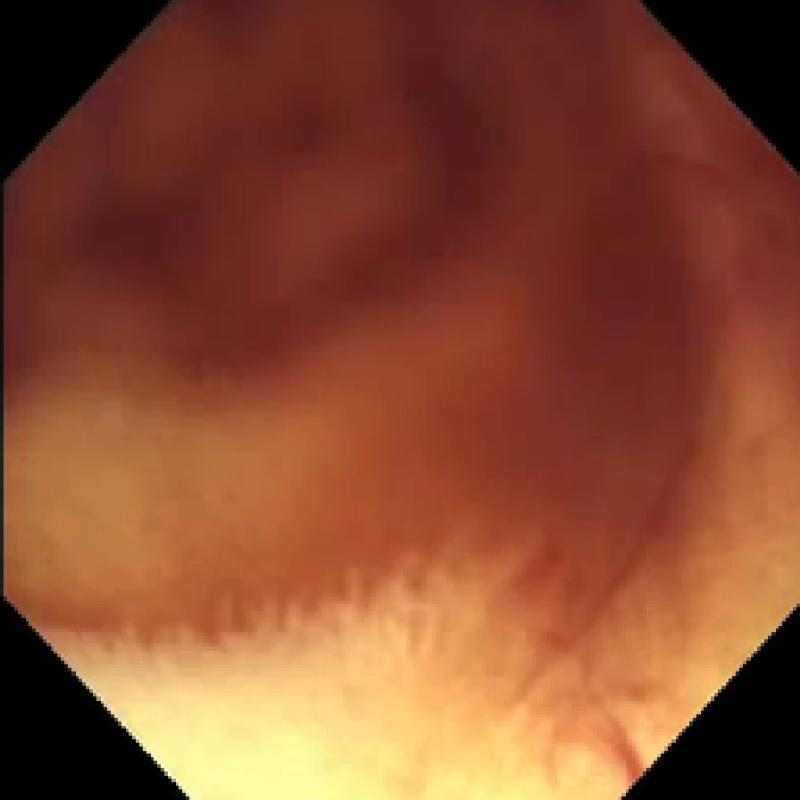bleeding: (14, 0, 800, 650)
